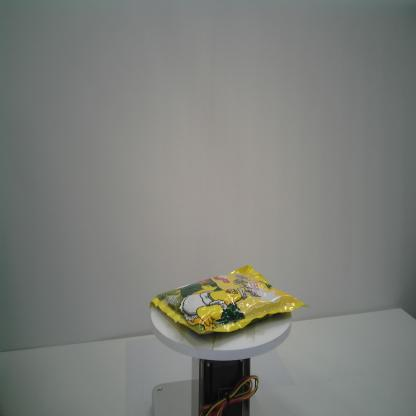Seasoner: (148, 262, 307, 338)
